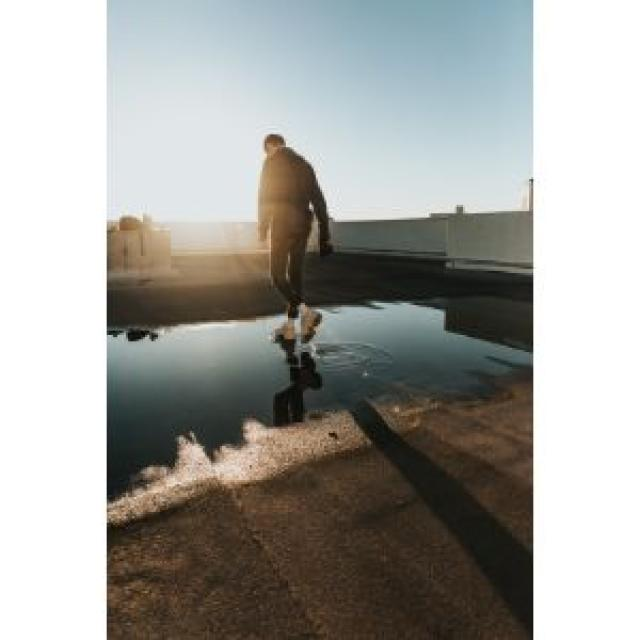nonfall: (233, 121, 347, 359)
